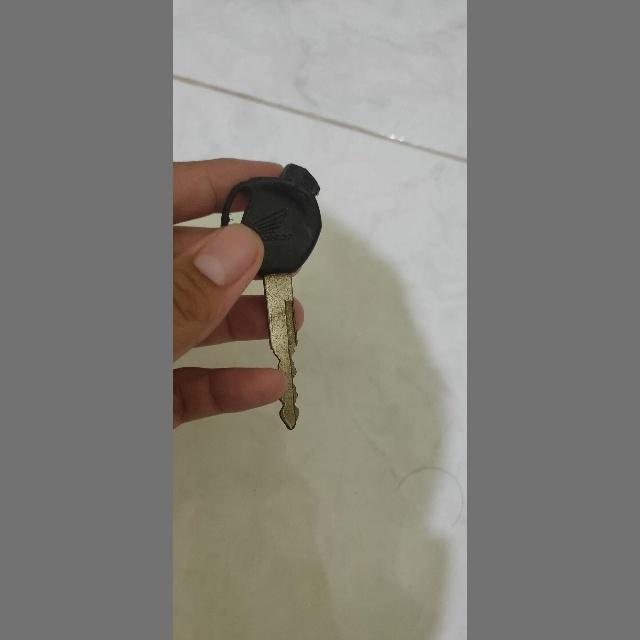Keys: (210, 156, 340, 440)
